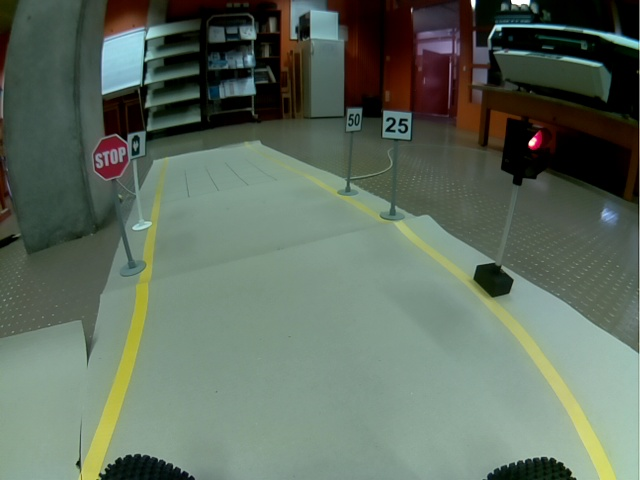battery: (127, 130, 147, 159)
speed25: (381, 109, 413, 141)
speed50: (345, 107, 363, 132)
stop: (92, 134, 130, 181)
trafficLightRed: (500, 117, 553, 179)
